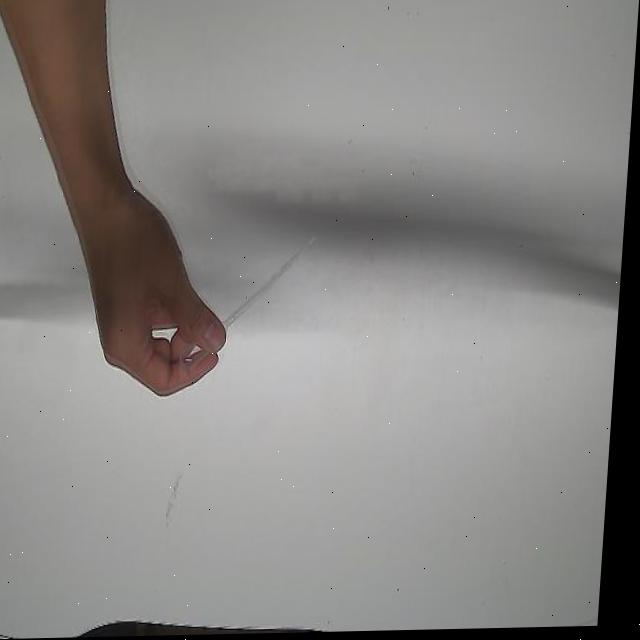Disposable Pasteur Pipette - Sealed: (183, 227, 331, 378)
